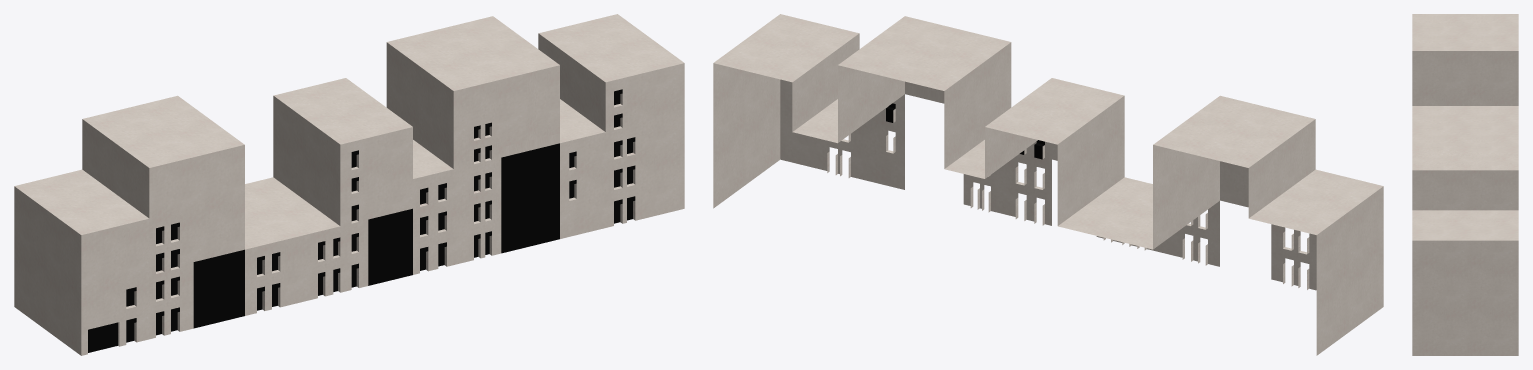
File: SM_Building_01.fbx
3 views of the same model, side by side, from view 1: azimuth 30°, elevation 25°; view 2: azimuth 150°, elevation 25°; view 3: azimuth 270°, elevation 25° (orthographic). The views are drawn at different scales.
Visible parts, largest first — view 1: SM_Building_01; view 2: SM_Building_01; view 3: SM_Building_01.
Boxes of the visible parts, x1=… form: SM_Building_01: x1=14, y1=14, x2=684, y2=355; SM_Building_01: x1=713, y1=14, x2=1383, y2=355; SM_Building_01: x1=1412, y1=14, x2=1518, y2=355.
Bounding box in the file's own units: 91.49 × 25.21 × 17.62.
